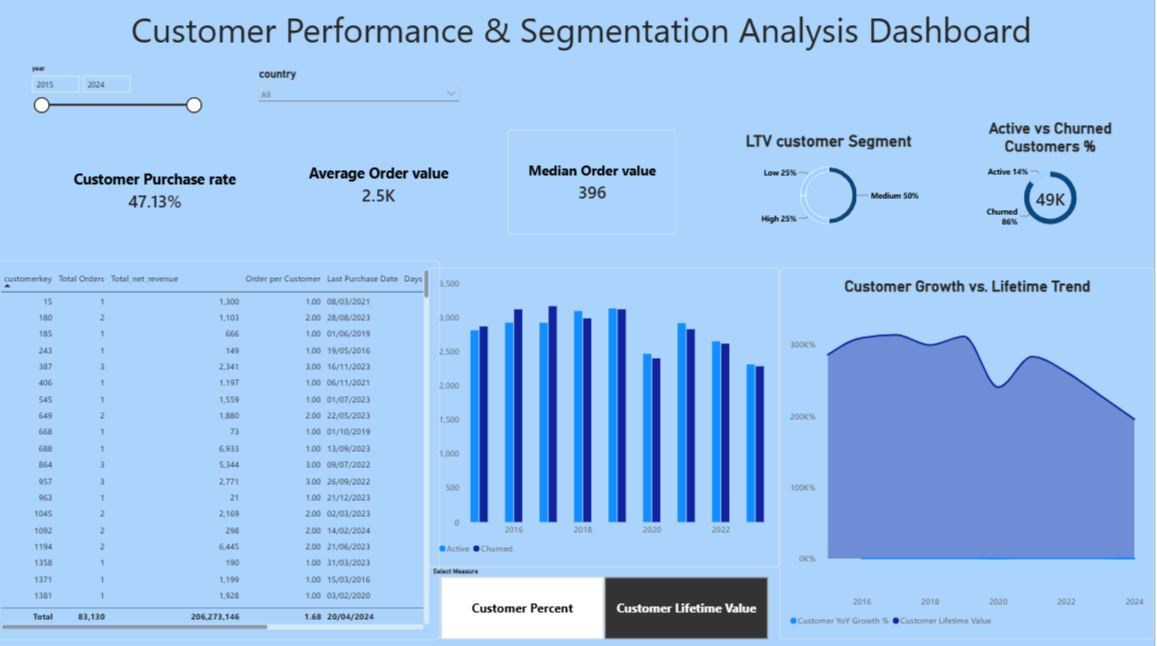

This screenshot's page, from the dashboard's own definition file:
{"tool":"powerbi","page":{"name":"Customer Details ","canvas":[1920,1080],"ordinal":1},"visuals":[{"type":"shape","box":[99.6,0,1820.4,212.9],"z":0},{"type":"shape","box":[1092,522.9,460.2,557.5],"z":1000},{"type":"shape","box":[641.1,222.8,561.2,294.2],"z":2000},{"type":"shape","box":[0,517.6,1920,560.6],"z":3000},{"type":"shape","box":[37.4,222.8,1882.6,299.3],"z":4000},{"type":"tableEx","fields":{"Values":["public sales.customerkey","public sales.Total Orders","public sales.Total_net_revenue","public customer.Order per Customer","public sales.Last Purchase Date","_Measures.Days between Fitst and Last order","Min(public customer.Customer Status)","public sales.Cohort Year"]},"box":[0,522.1,746.6,556.1],"z":5000},{"type":"donutChart","title":"Active vs Churned Customers %","fields":{"Category":["public customer.Customer Status"],"Y":["public customer.Total Customer"]},"box":[1507.6,234.2,397.5,283.7],"z":6000},{"type":"donutChart","title":"Who Are Our Most Valuable Customers?","fields":{"Category":["LTV Segment.Segment"],"Y":["public customer.LTV Segment Customers"]},"box":[1202.5,234.2,305.2,283.7],"z":7000},{"type":"cardVisual","fields":{"Data":["public sales.Average Order value"]},"box":[349.7,222.7,301.9,295.3],"z":9000},{"type":"cardVisual","fields":{"Data":["public sales.Customer Purchase rate"]},"box":[37.9,222.7,311.8,295.3],"z":10000},{"type":"lineChart","title":"Which Year Had the Highest Customer Purchase Rate ?","fields":{"Category":["public date.year"],"Y":["_Measures.Customer Purchase rate"]},"box":[732.4,539.4,392.6,539.4],"z":11000},{"type":"lineChart","title":"Customer Growth vs  Revenue Growth % ","fields":{"Category":["public date.year"],"Y":["public customer.YOY Growth %"],"Y2":["public customer.Customer YoY Growth %"]},"box":[1527.4,522.9,392.6,557.5],"z":12000},{"type":"cardVisual","fields":{"Data":["public customer.YOY Growth %"]},"box":[651.5,222.7,283.7,295.3],"z":13000},{"type":"cardVisual","fields":{"Data":["public customer.Customer YoY Growth %"]},"box":[935.3,212.8,255.7,310.1],"z":14000},{"type":"areaChart","title":"Is Revenue per Customer Increasing over Year?","fields":{"Category":["public date.year"],"Y":["public customer.Revenue per Customer"]},"box":[1125,539.1,402.4,539.1],"z":15000},{"type":"textbox","box":[99.6,19.5,1804.8,193.4],"z":16000}]}

Visuals, with their boxes in screenshot pixels (x1, y1, x2, y2), scaled from the page's 1920x1080 canvas onto the 1157x646 screenshot:
shape: {"left": 60, "top": 0, "right": 1156, "bottom": 127}
shape: {"left": 658, "top": 313, "right": 935, "bottom": 645}
shape: {"left": 386, "top": 133, "right": 725, "bottom": 309}
shape: {"left": 0, "top": 310, "right": 1156, "bottom": 645}
shape: {"left": 23, "top": 133, "right": 1156, "bottom": 312}
tableEx - public sales.customerkey x public sales.Total Orders: {"left": 0, "top": 312, "right": 450, "bottom": 645}
"Active vs Churned Customers %" donutChart: {"left": 908, "top": 140, "right": 1148, "bottom": 310}
"Who Are Our Most Valuable Customers?" donutChart: {"left": 725, "top": 140, "right": 909, "bottom": 310}
cardVisual - public sales.Average Order value: {"left": 211, "top": 133, "right": 393, "bottom": 310}
cardVisual - public sales.Customer Purchase rate: {"left": 23, "top": 133, "right": 211, "bottom": 310}
"Which Year Had the Highest Customer Purchase Rate ?" lineChart: {"left": 441, "top": 323, "right": 678, "bottom": 645}
"Customer Growth vs  Revenue Growth % " lineChart: {"left": 920, "top": 313, "right": 1156, "bottom": 645}
cardVisual - public customer.YOY Growth %: {"left": 393, "top": 133, "right": 564, "bottom": 310}
cardVisual - public customer.Customer YoY Growth %: {"left": 564, "top": 127, "right": 718, "bottom": 313}
"Is Revenue per Customer Increasing over Year?" areaChart: {"left": 678, "top": 322, "right": 920, "bottom": 645}
textbox: {"left": 60, "top": 12, "right": 1148, "bottom": 127}
